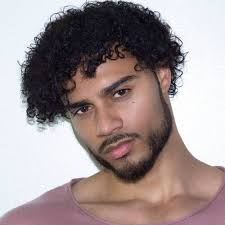black_male: (37, 29, 190, 177)
